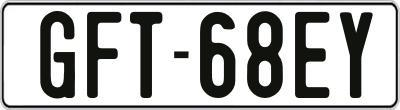6: (197, 12, 233, 98)
8: (244, 9, 285, 101)
E: (293, 11, 329, 97)
F: (84, 10, 120, 101)
G: (39, 11, 78, 103)
T: (128, 10, 164, 100)
Y: (340, 10, 375, 97)
